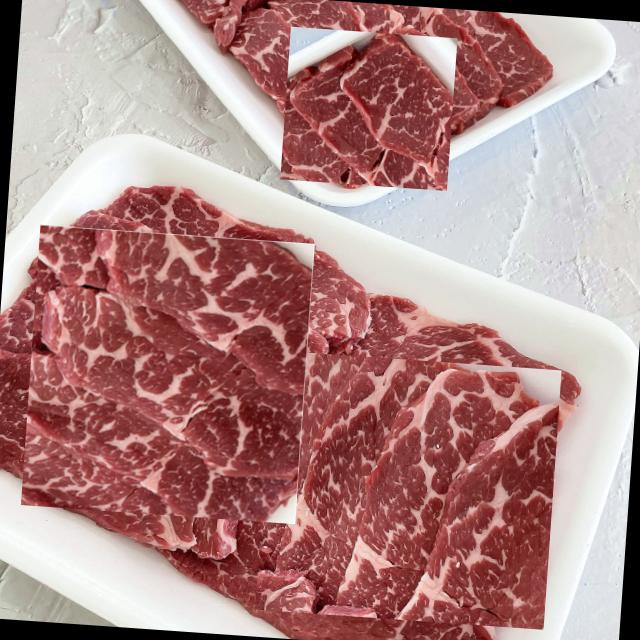beef: (21, 224, 314, 524), (262, 343, 555, 636), (280, 26, 458, 190)
